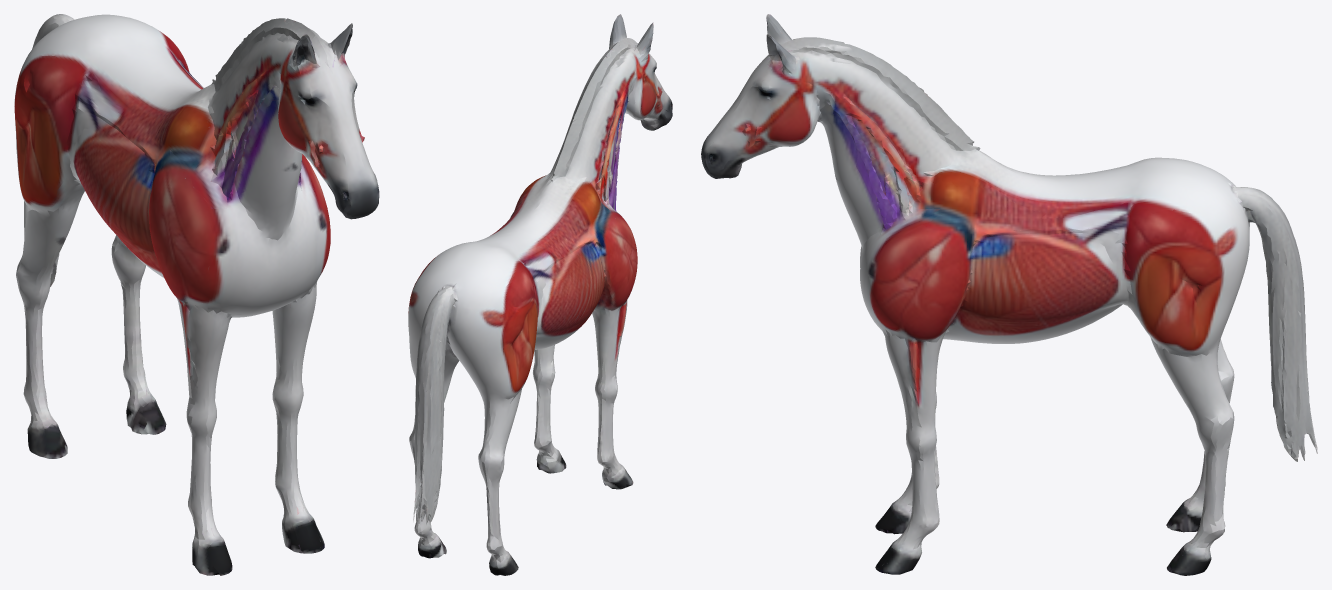
File: horse_anatomy.glb
3 renders of one model, left to right at view 1: azimuth 30°, elevation 25°; view 2: azimuth 150°, elevation 25°; view 3: azimuth 270°, elevation 25°, orthographic. The views are drawn at different scales.
Visible parts, largest first — view 1: model; view 2: model; view 3: model.
Part boxes in pixels (<box>): model: <box>14,14,379,575</box>; model: <box>408,14,672,575</box>; model: <box>701,14,1317,575</box>.
Bounding box in the file's own units: 0.4919 × 1.78 × 1.9.
1 material, 1 textured.
